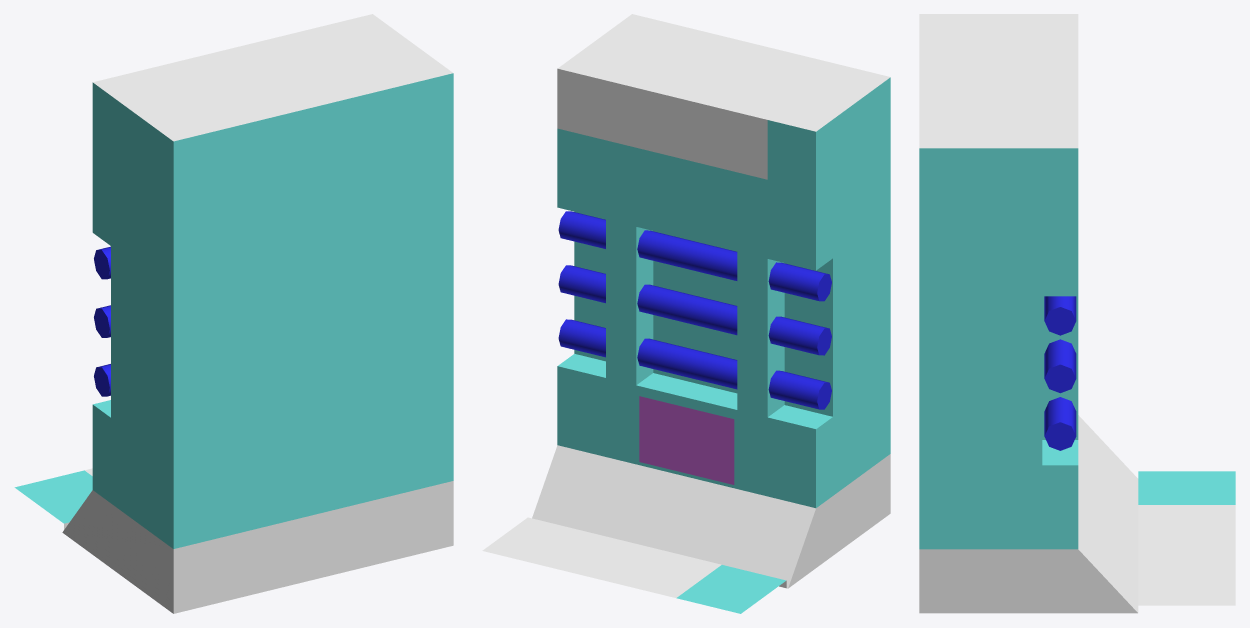
Rendered from Wall-BaseLow.fbx.
3 views of the same model, side by side, from view 1: azimuth 30°, elevation 25°; view 2: azimuth 150°, elevation 25°; view 3: azimuth 270°, elevation 25° (orthographic). The views are drawn at different scales.
Parts seen in each view (by area): view 1: BaseLow; view 2: BaseLow; view 3: BaseLow.
Boxes of the visible parts, box(x1,y1,x2,y2) form: BaseLow: box(14, 14, 453, 613); BaseLow: box(482, 14, 890, 613); BaseLow: box(919, 14, 1235, 613).
Size of the model in its own units: 79.2 by 127 by 78.28.
